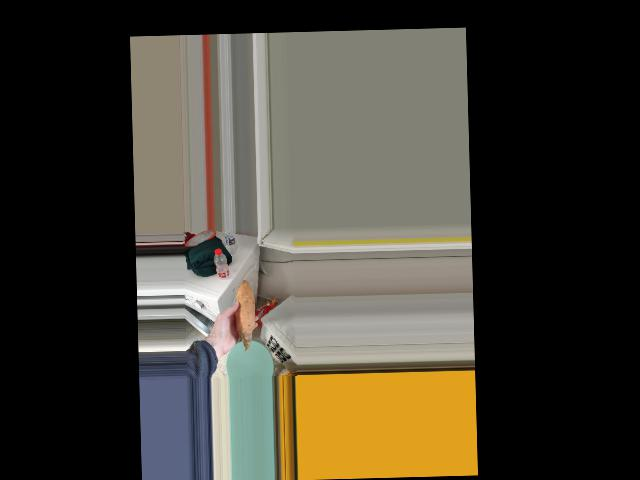sweet_potato: (236, 289, 252, 341)
